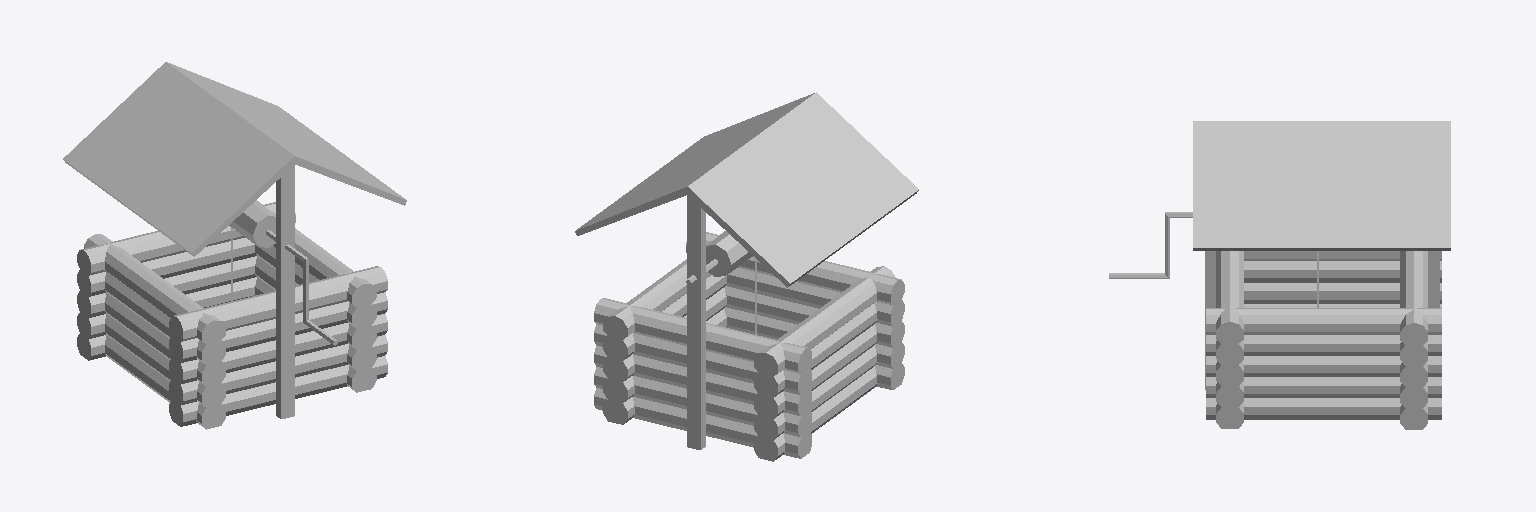
Rendered from well-low-rus-obj.obj.
The picture shows the model from 3 angles: view 1: azimuth 30°, elevation 25°; view 2: azimuth 150°, elevation 25°; view 3: azimuth 270°, elevation 25°; orthographic projection.
Visible parts, largest first — view 1: kolodec_01; view 2: kolodec_01; view 3: kolodec_01.
Boxes of the visible parts, <box> form: kolodec_01: <box>63,62,406,429</box>; kolodec_01: <box>575,92,918,461</box>; kolodec_01: <box>1109,121,1450,429</box>.
Size of the model in its own units: 203 by 239 by 279.